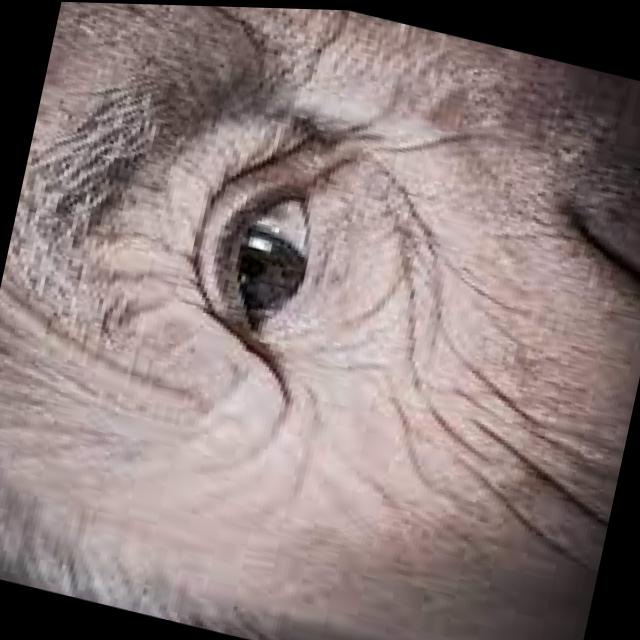Wrinkles: (0, 124, 627, 605)
